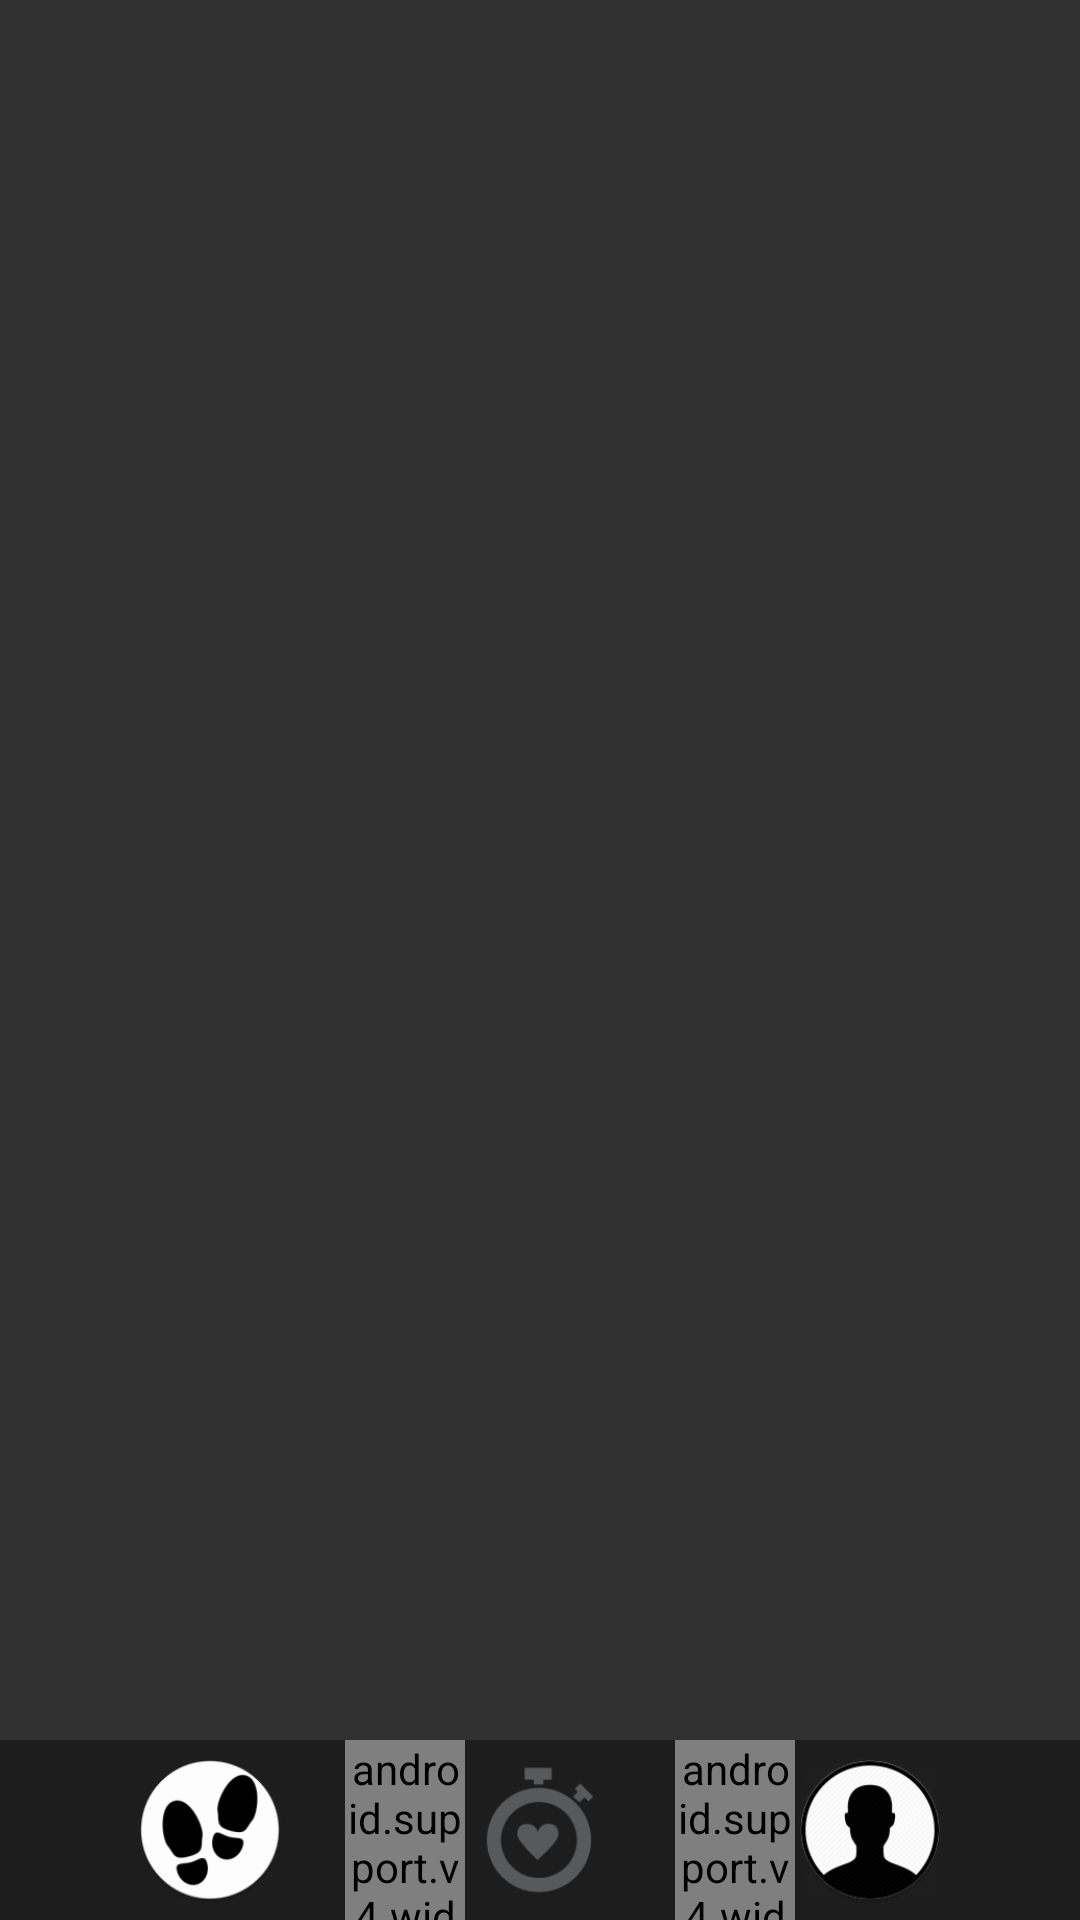

Screen size 1080×1920. Icon name, then its box in pixels as BBox(x1, y1, x2, y2):
heart: BBox(487, 1768, 593, 1892)
profile: BBox(801, 1760, 939, 1898)
steps: BBox(141, 1760, 279, 1899)
